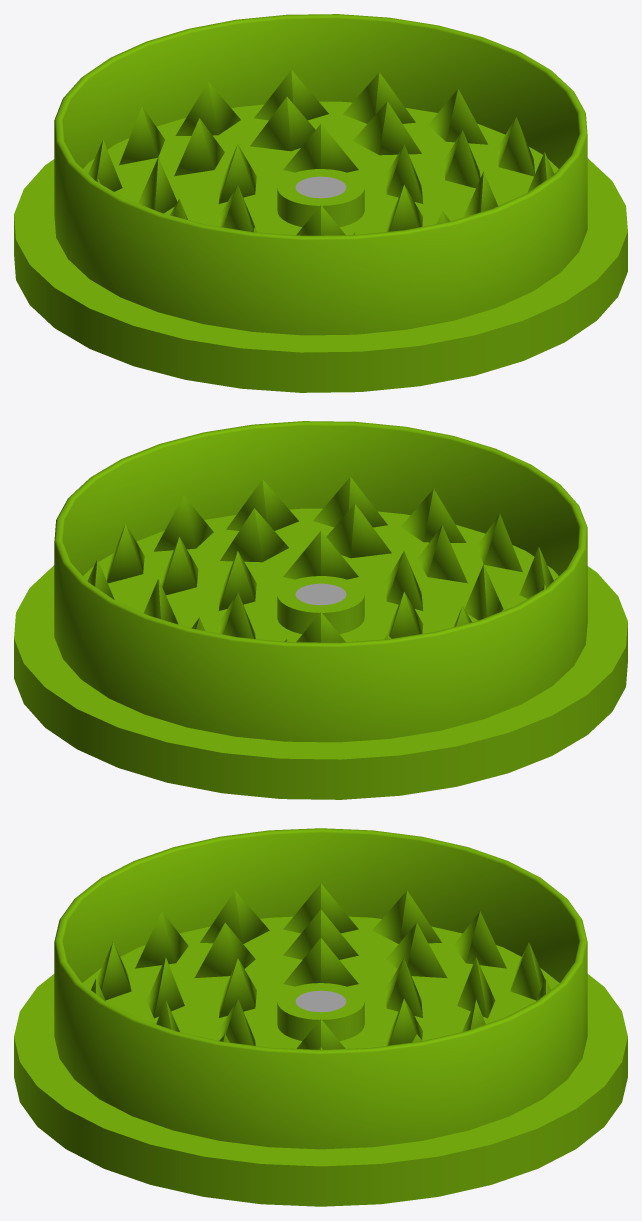
File: Grinder.fbx
The picture shows the model from 3 angles, top to bottom: view 1: azimuth 30°, elevation 25°; view 2: azimuth 150°, elevation 25°; view 3: azimuth 270°, elevation 25°; orthographic projection.
Parts seen in each view (by area): view 1: Grinder; view 2: Grinder; view 3: Grinder.
Boxes of the visible parts, x1,y1,x2,y2 form: Grinder: (14, 14, 627, 392); Grinder: (14, 421, 627, 799); Grinder: (14, 828, 627, 1206).
Bounding box in the file's own units: 59.09 × 14.54 × 59.09.
